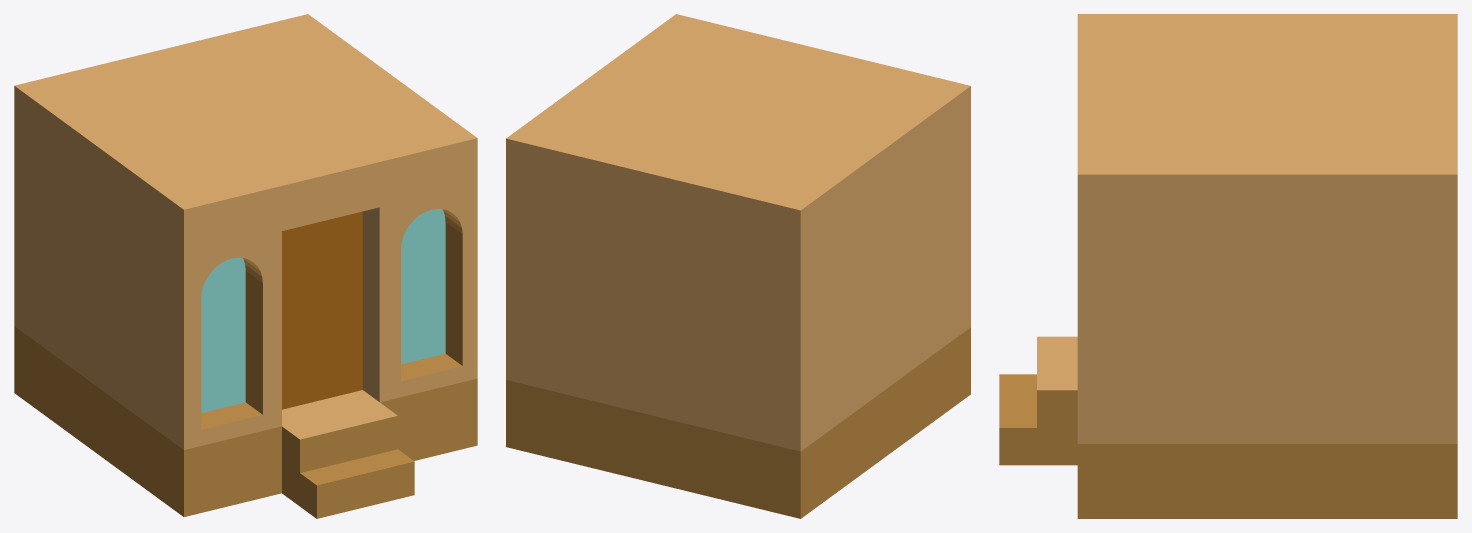
3 renders of one model, left to right at view 1: azimuth 30°, elevation 25°; view 2: azimuth 150°, elevation 25°; view 3: azimuth 270°, elevation 25°, orthographic. The views are drawn at different scales.
Parts seen in each view (by area): view 1: base3; view 2: base3; view 3: base3.
Part boxes in pixels (<box>): base3: <box>14,14,477,518</box>; base3: <box>506,14,970,518</box>; base3: <box>999,14,1457,518</box>.
Size of the model in its own units: 200 by 200 by 241.
